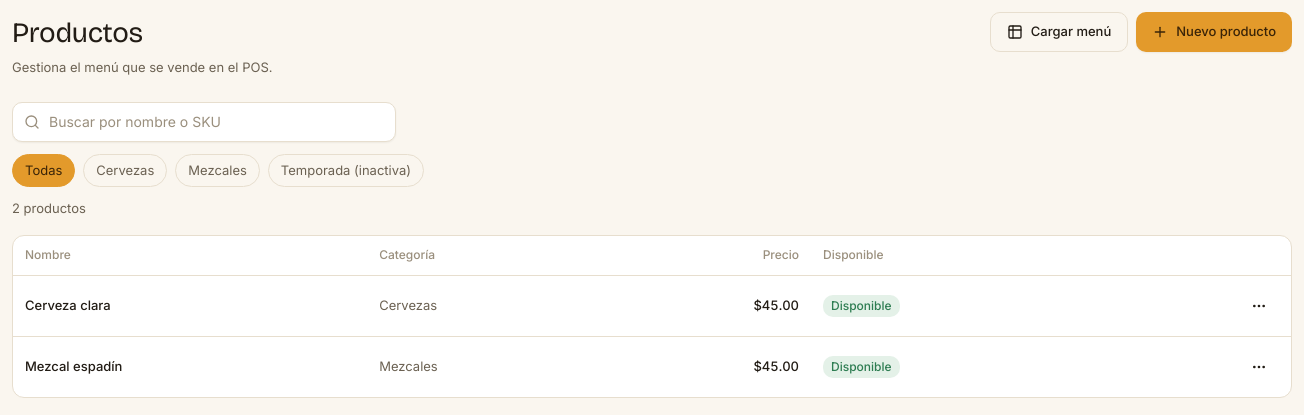
Test case: ProductosPage · buscador › busca en el servidor, no sobre la página visible
Check: the text "Cerveza clara" is shown, box [25, 297, 111, 313]
Type "mezcal" into the field named "buscar productos" at (204, 122), box [12, 102, 396, 142]
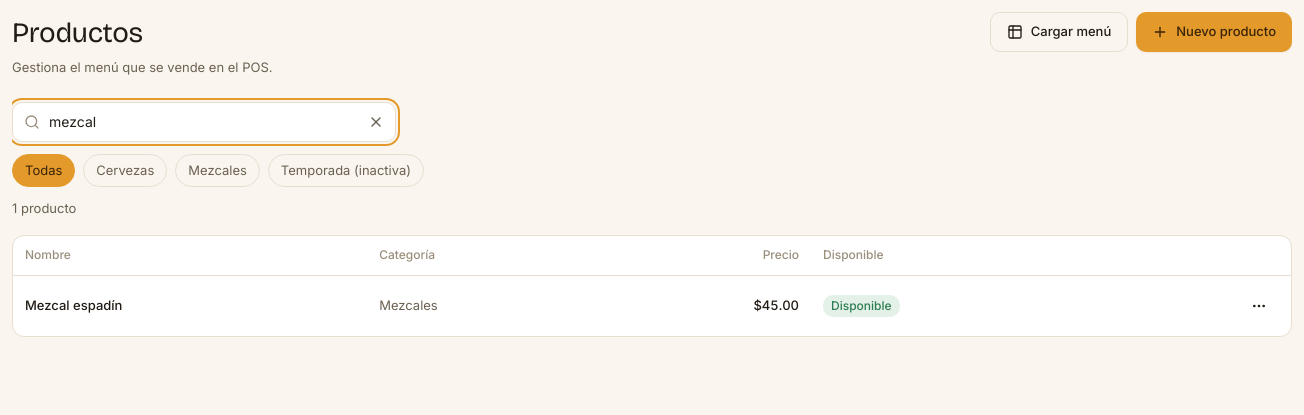
Check: the text "Mezcal espadín" is shown, box [25, 297, 122, 313]
Check: the text "Cerveza clara" is gone
